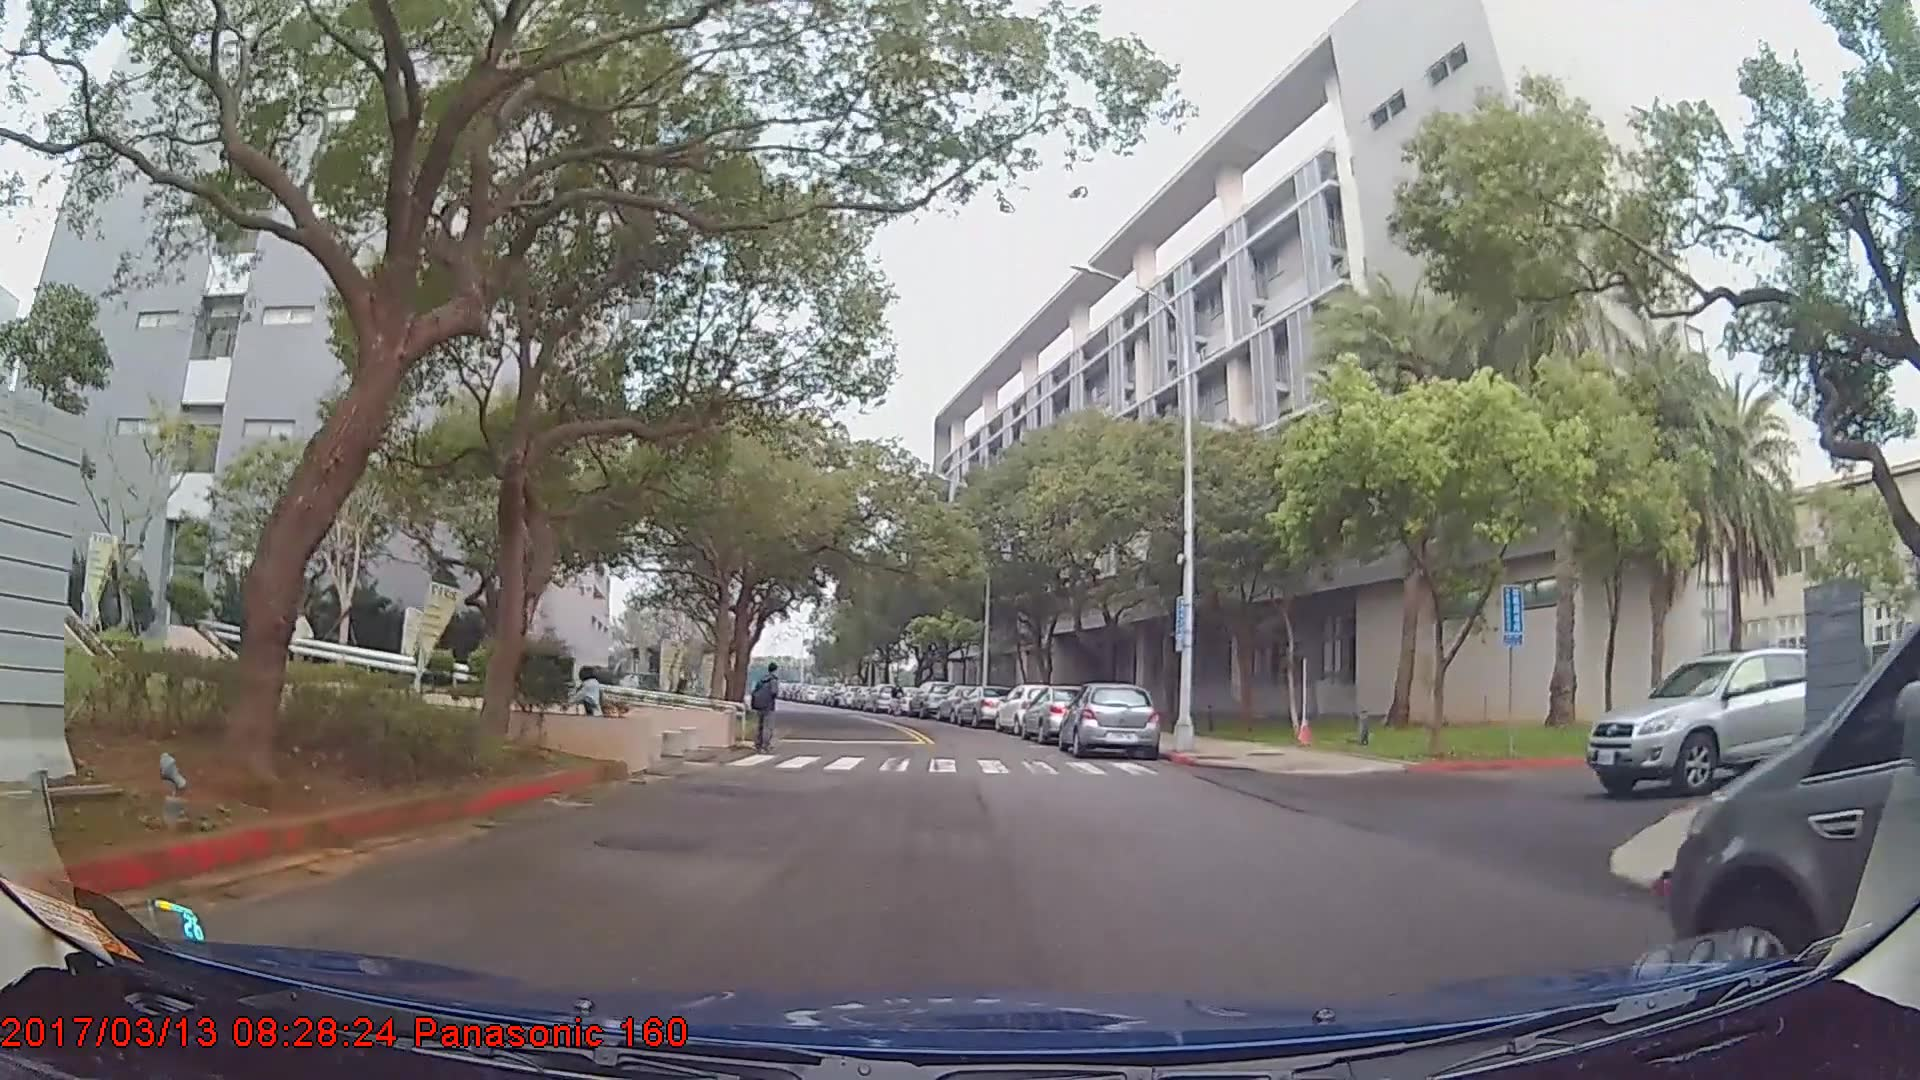pedestrian: (737, 651, 796, 756), (561, 663, 622, 756)
vehicle: (1669, 619, 1920, 1014), (1587, 645, 1844, 797), (1057, 679, 1160, 760), (1017, 680, 1110, 742), (992, 678, 1067, 734), (956, 682, 1010, 723), (907, 678, 952, 716)
